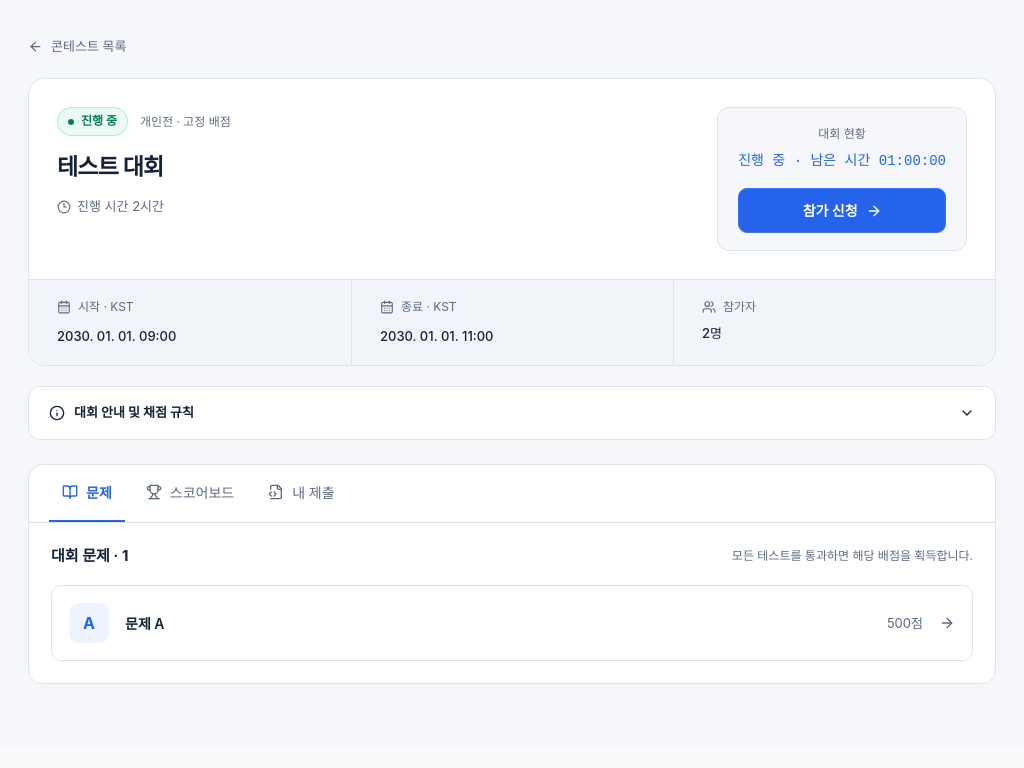
Test case: contest pages › uses server time, joins, and shows shared ranks without source code
The width and height of the screenshot is (1024, 768).
Expected: the text "진행 중 · 남은 시간 01:00:00" is shown, [738, 151, 946, 172]
Click the button "참가 신청". click: (842, 211)
box: [738, 188, 946, 233]
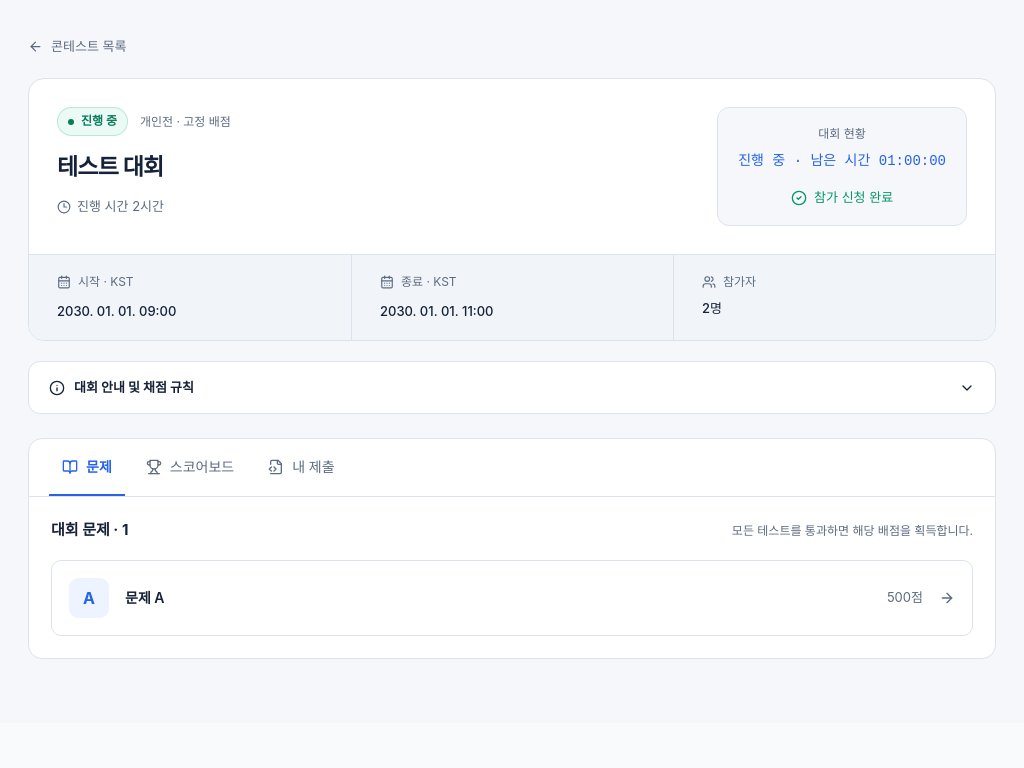
Result: the text "참가 신청 완료" is shown at [791, 188, 893, 208]
Click the button "스코어보드". click: (190, 468)
box: [133, 439, 247, 496]
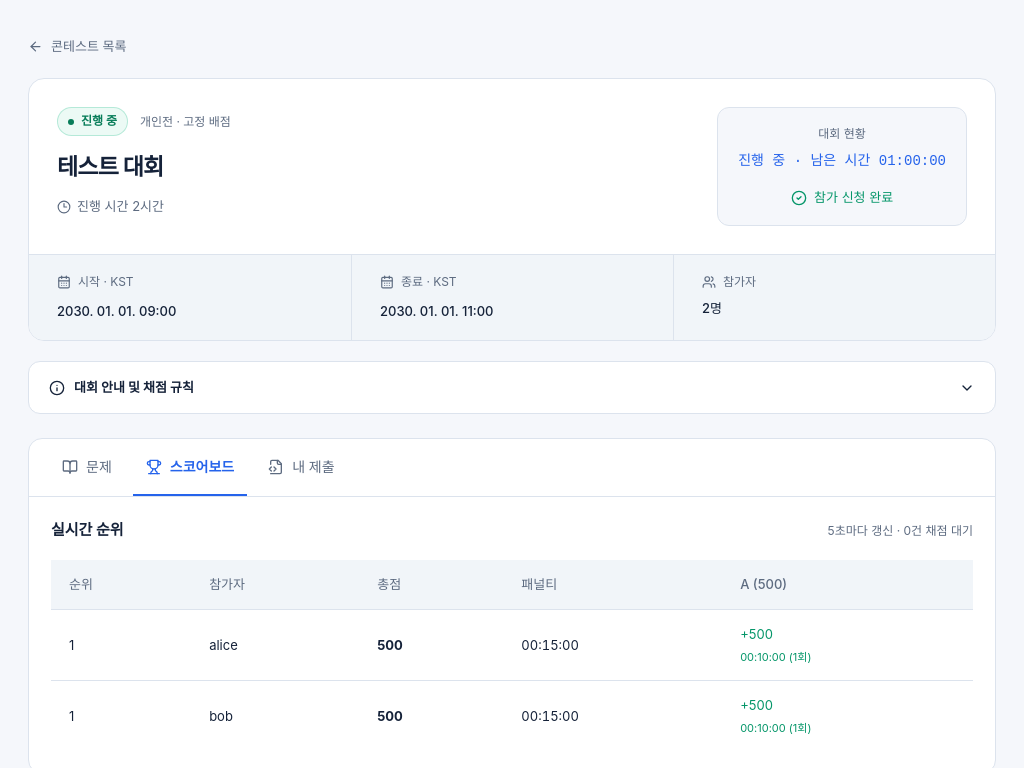
Result: the number of cells "1" is 2 at [51, 610, 191, 681]; [51, 681, 191, 751]
Result: the text "00:15:00" is shown 2 times at [503, 610, 722, 681]; [503, 681, 722, 751]
